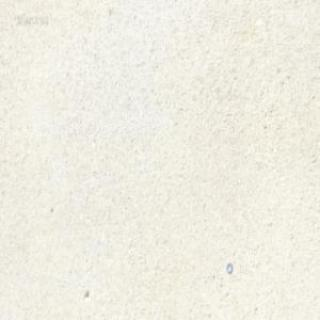Washertrack_idkeyframe: (226, 261, 232, 273)
